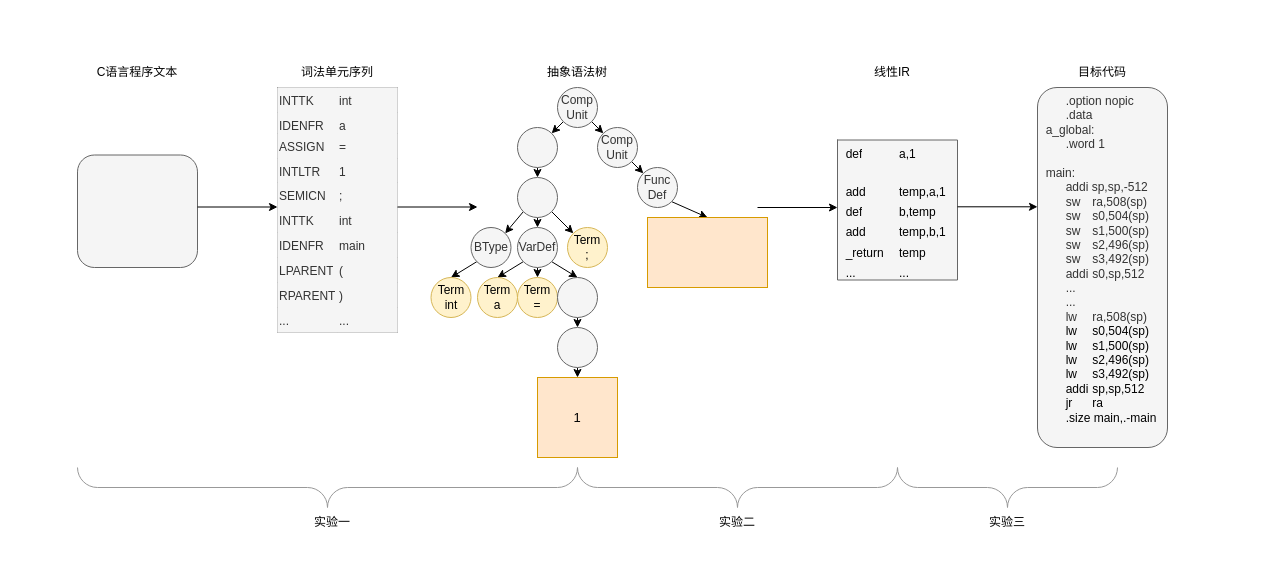
This 1274x584 diagram has some shape labels left out. Here are the shapes that lost their labels. From the top down, the centre of each, then its label:
[537,147]: Decl
[137,211]: int a = 1; int main(){ int b = a + 1; return b+1; }
[537,197]: Var Decl
[707,252]: int main(){ int b = a + 1; return b+1; }
[577,297]: InitVal
[577,347]: Exp
